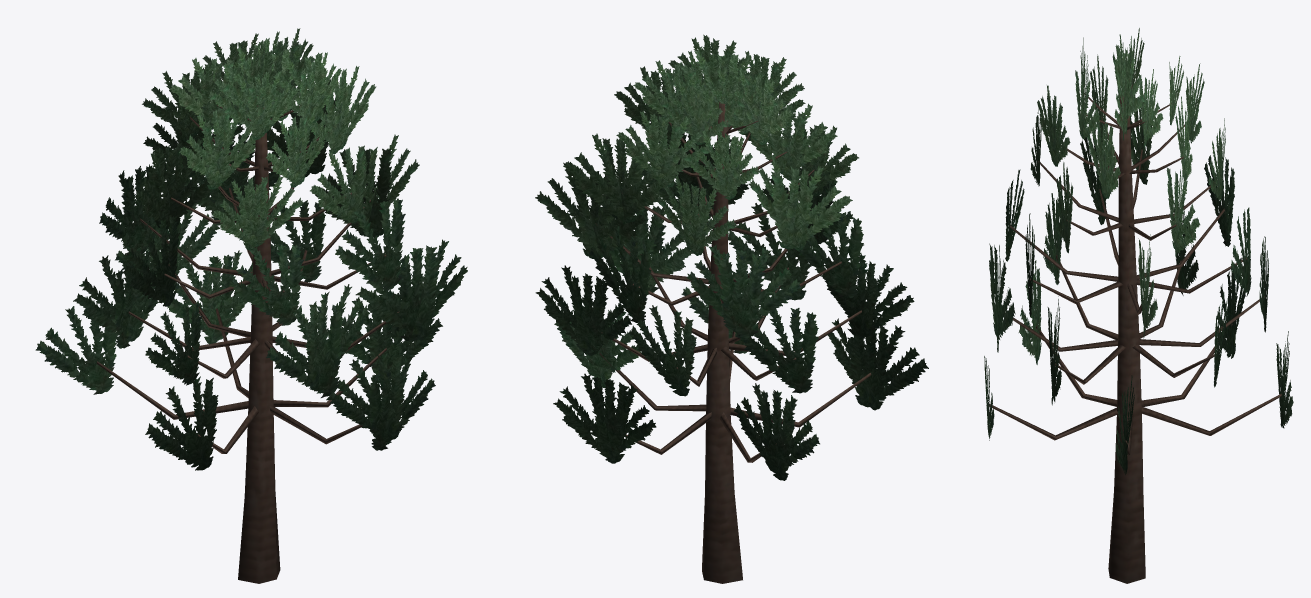
The model's file is arvore_araucaria_lod1.glb.
The picture shows the model from 3 angles, left to right: view 1: azimuth 30°, elevation 25°; view 2: azimuth 150°, elevation 25°; view 3: azimuth 270°, elevation 25°; orthographic projection. The views are drawn at different scales.
Visible parts, largest first — view 1: arvore_araucaria_lod1; view 2: arvore_araucaria_lod1; view 3: arvore_araucaria_lod1.
Part boxes in pixels (x1,y1,x2,y2): arvore_araucaria_lod1: (35,28,467,583); arvore_araucaria_lod1: (535,34,928,583); arvore_araucaria_lod1: (984,28,1293,583).
Size of the model in its own units: 5 by 7 by 3.7.
Materials: 2 (2 with a texture image).
